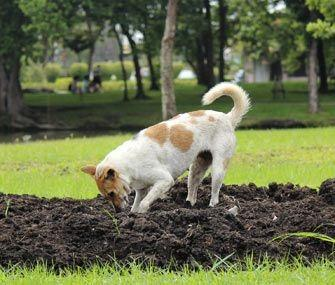adult_dog: (78, 83, 251, 215)
